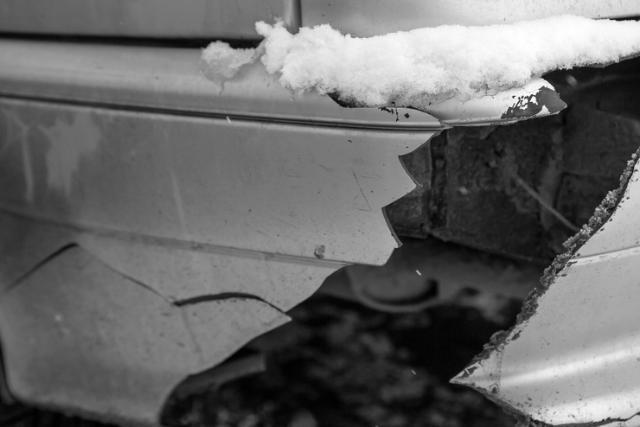Bumper: (0, 36, 635, 427)
